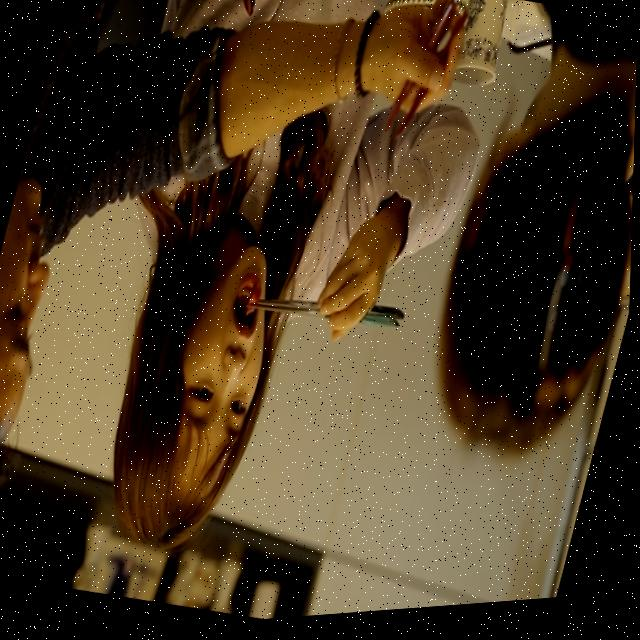eating-person: (25, 0, 523, 621)
